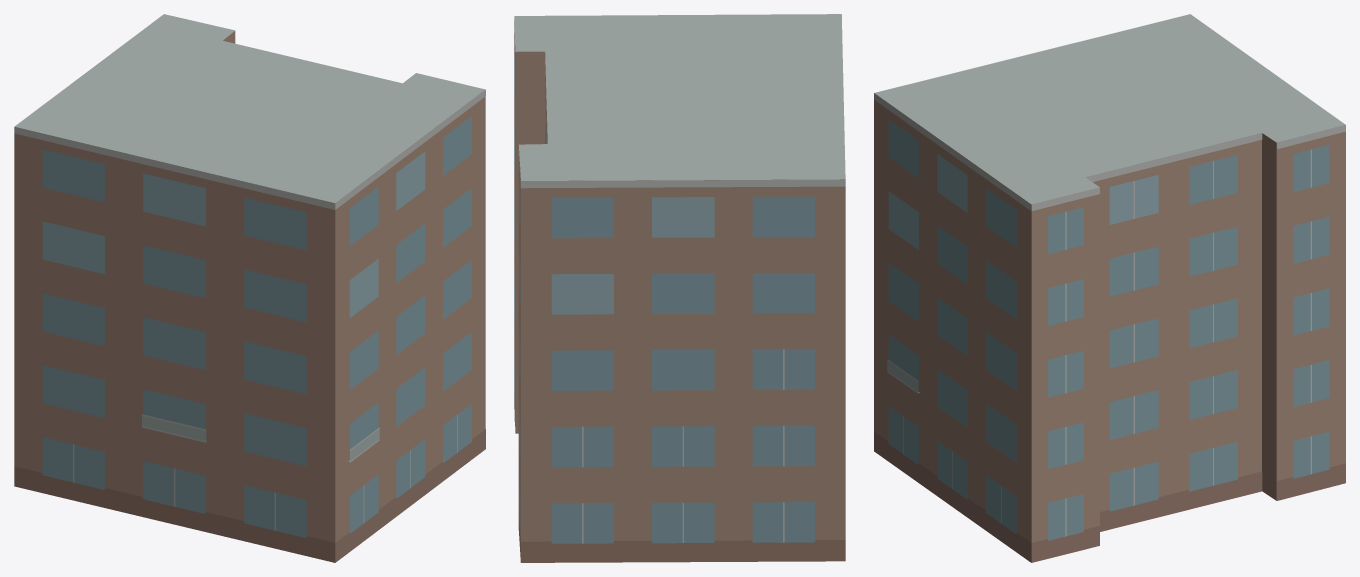
The model's file is survey-upis-32900807.glb.
The picture shows the model from 3 angles, left to right: view 1: azimuth 30°, elevation 25°; view 2: azimuth 150°, elevation 25°; view 3: azimuth 270°, elevation 25°; orthographic projection. The views are drawn at different scales.
Visible parts, largest first — view 1: survey-upis-32900807.tmp; view 2: survey-upis-32900807.tmp; view 3: survey-upis-32900807.tmp.
Part boxes in pixels (x1,y1,x2,y2): survey-upis-32900807.tmp: [14, 14, 485, 562]; survey-upis-32900807.tmp: [514, 14, 845, 562]; survey-upis-32900807.tmp: [874, 14, 1345, 562].
Size of the model in its own units: 14.83 by 13 by 15.52.
